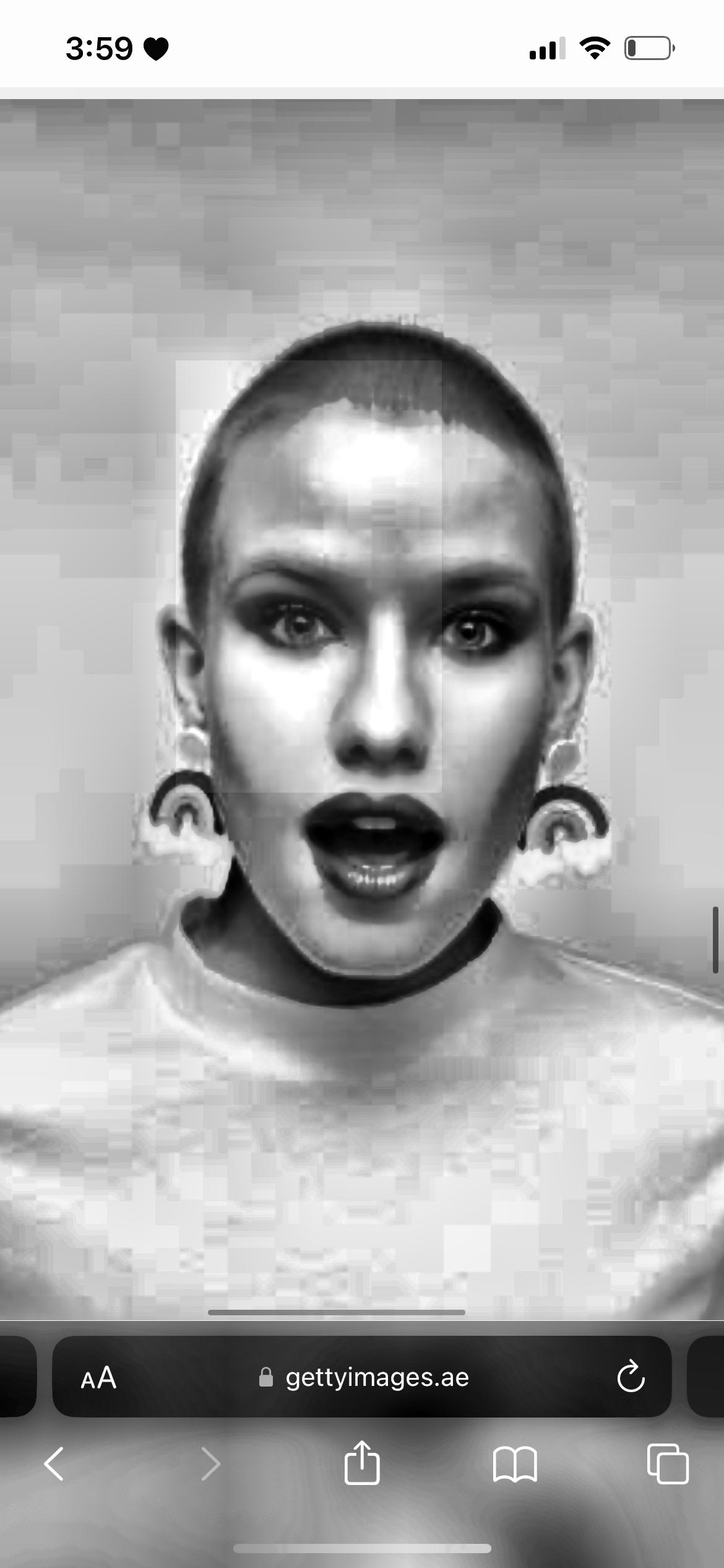Surprised: (217, 446, 547, 980)
